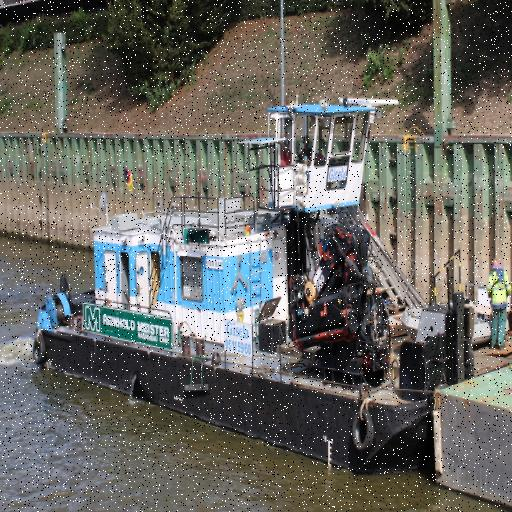tugboat: (29, 87, 512, 489)
